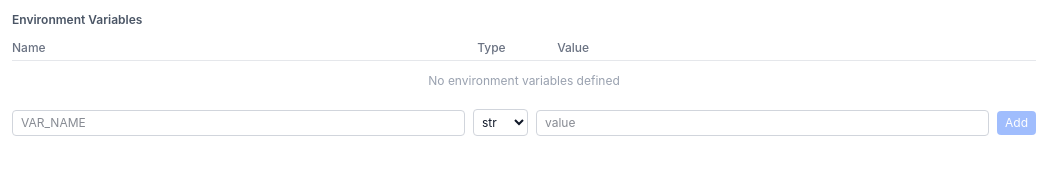
Scenario: EnvVarEditor › adding a variable › adds a variable via the Add button
This screenshot has width=1048, height=172.
In the field with test id "env-var-add-name": (238,122) 12,110 -> 465,136, type "MY_VAR"
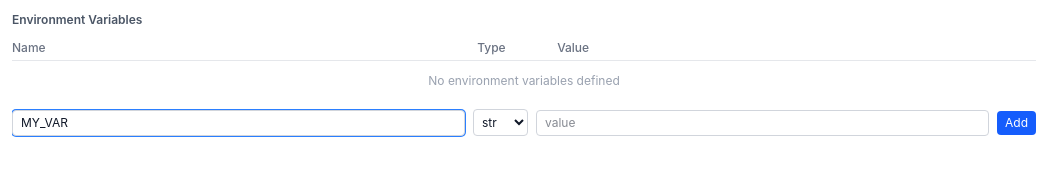
In the field with test id "env-var-add-value": (762,122) 536,110 -> 989,136, type "hello"
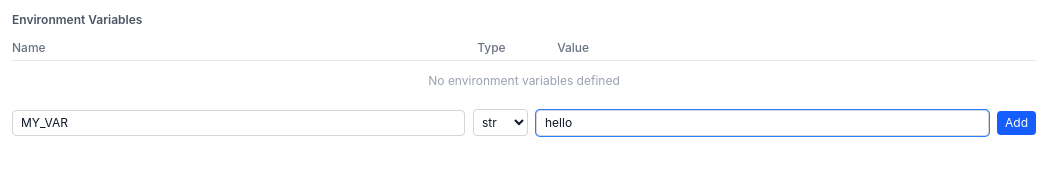
Click the button with test id "env-var-add-btn": (1016,122) 997,110 -> 1036,134
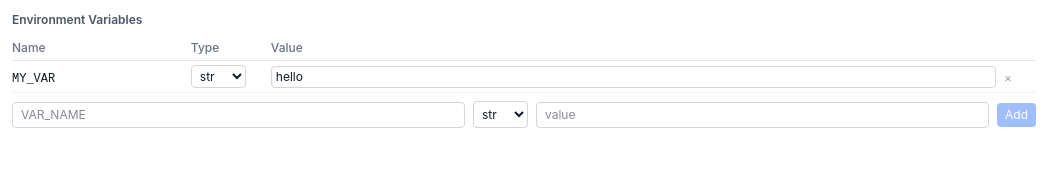
Now the row with test id "env-var-row-MY_VAR" is shown, box 12,60 -> 1036,92
